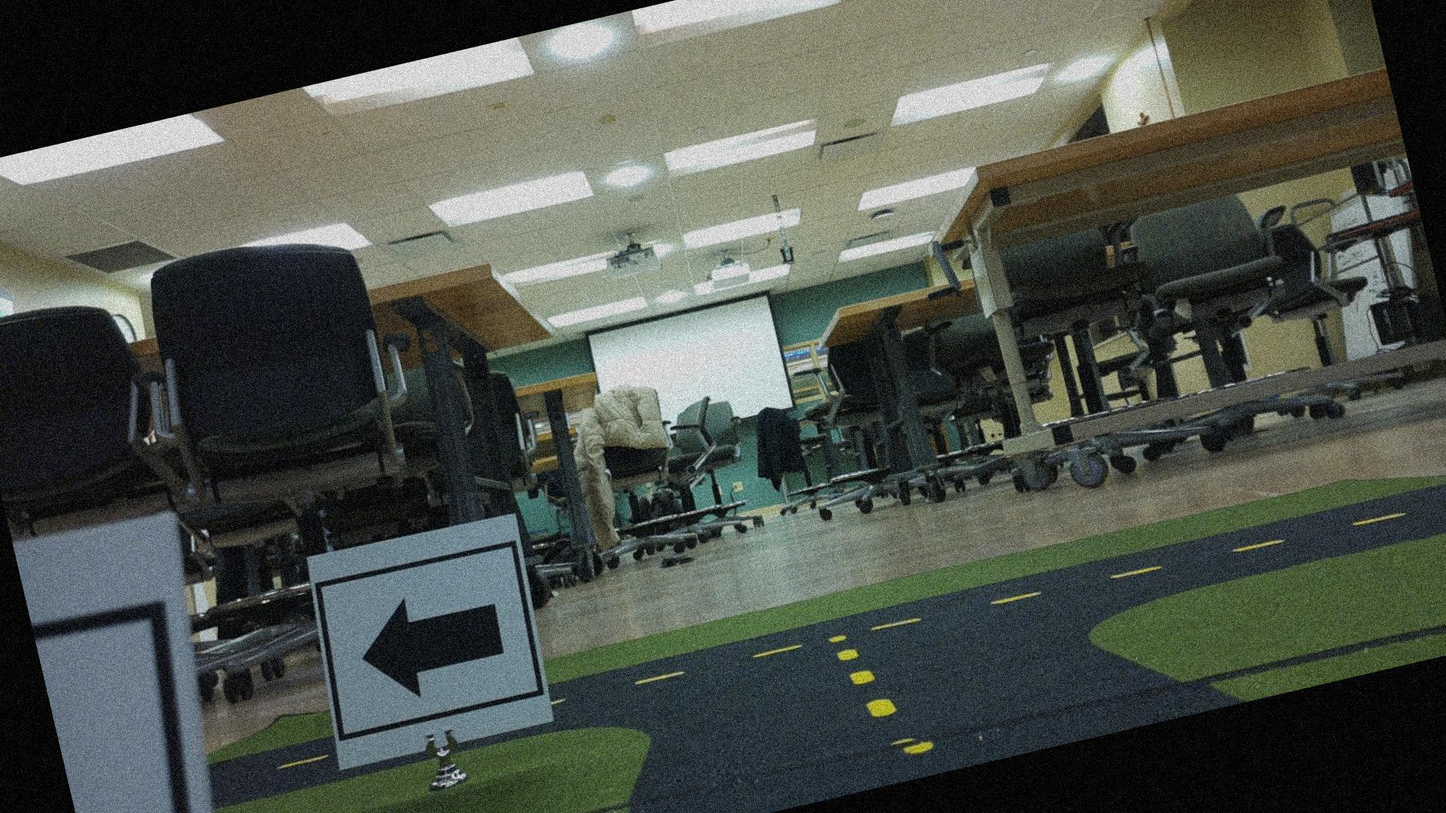turnleft: (303, 519, 551, 766)
yellowline: (636, 498, 1409, 694), (824, 617, 898, 726)
